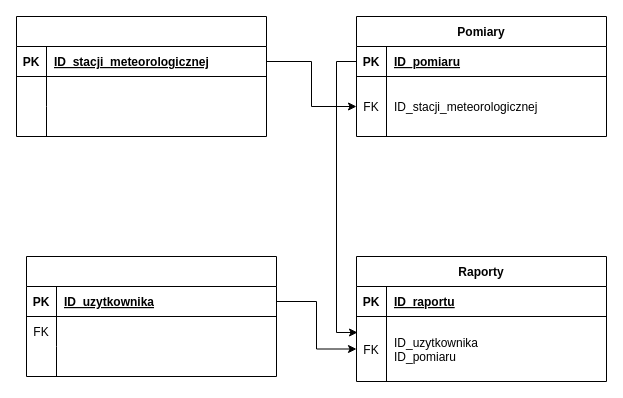
Image size: 623x398. Some labels were removed from this diagram. The box of each missing label's shape, as (x1, y1, x2, y2) in pixels:
Stacje meteorologiczne: (16, 16, 266, 136)
Użytkownicy: (26, 256, 276, 376)
